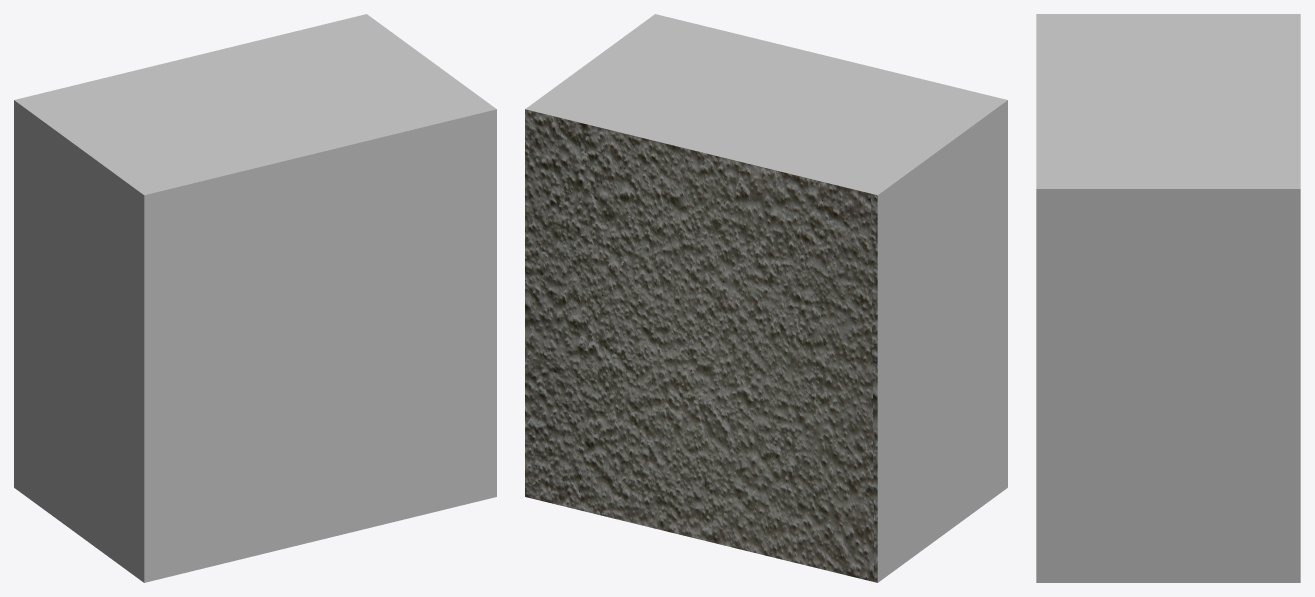
Rendered from caca5.dae.
3 views of the same model, side by side, from view 1: azimuth 30°, elevation 25°; view 2: azimuth 150°, elevation 25°; view 3: azimuth 270°, elevation 25° (orthographic).
Visible parts, largest first — view 1: Room; view 2: Room; view 3: Room.
Boxes of the visible parts, x1,y1,x2,y2 form: Room: (14, 14, 496, 582); Room: (525, 14, 1007, 582); Room: (1036, 14, 1300, 582).
Size of the model in its own units: 11.52 by 7.36 by 12.1.
